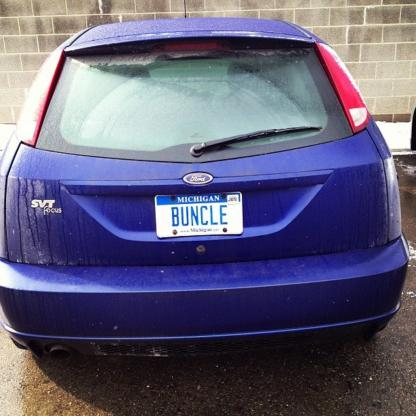Car: (1, 1, 410, 361)
